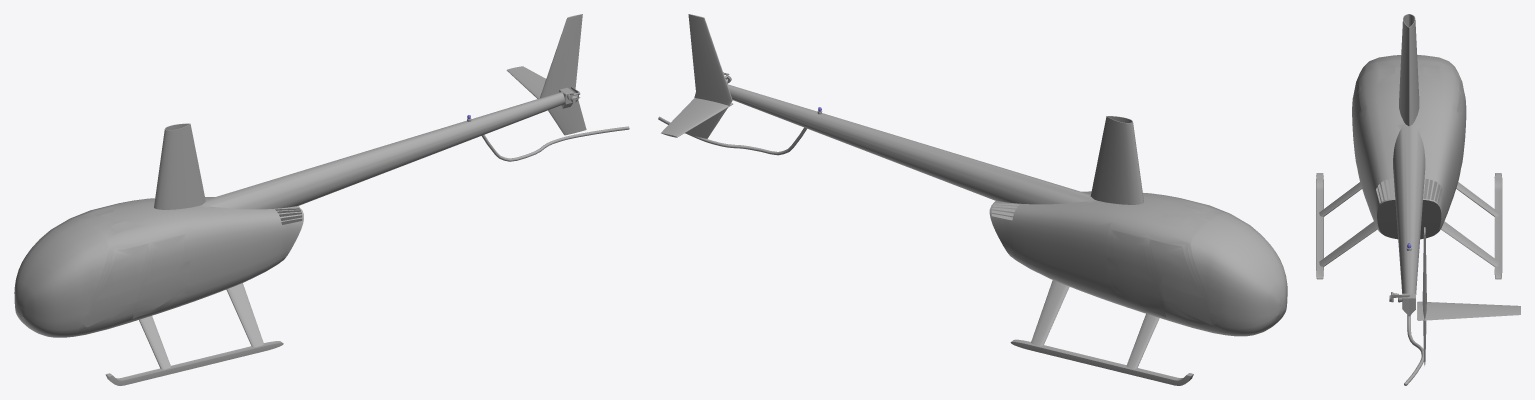
The model's file is HeliBody.fbx.
3 renders of one model, left to right at view 1: azimuth 30°, elevation 25°; view 2: azimuth 150°, elevation 25°; view 3: azimuth 270°, elevation 25°, orthographic. The views are drawn at different scales.
Parts seen in each view (by area): view 1: Heli_Body; view 2: Heli_Body; view 3: Heli_Body.
Boxes of the visible parts, <box> form: Heli_Body: <box>14,14,629,385</box>; Heli_Body: <box>658,14,1287,385</box>; Heli_Body: <box>1316,14,1520,385</box>.
Bounding box in the file's own units: 1931 × 643 × 510.
2 materials, 1 textured.
